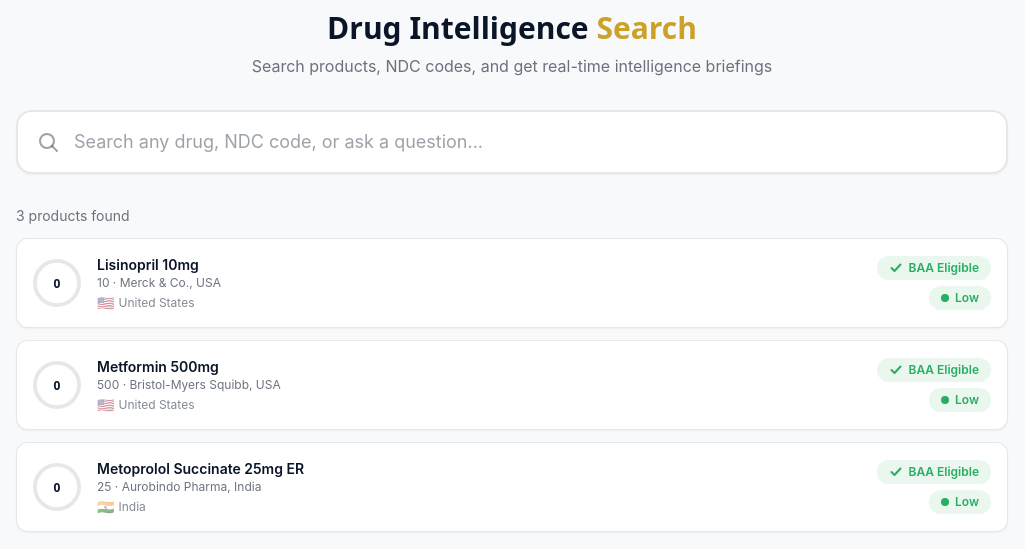
Test: SearchHub › search by NDC code returns matches
Type "65862" into the field with test id "search-input".
click(512, 142); type("65862")  # box [16,110,1008,174]
Wait 350 ms
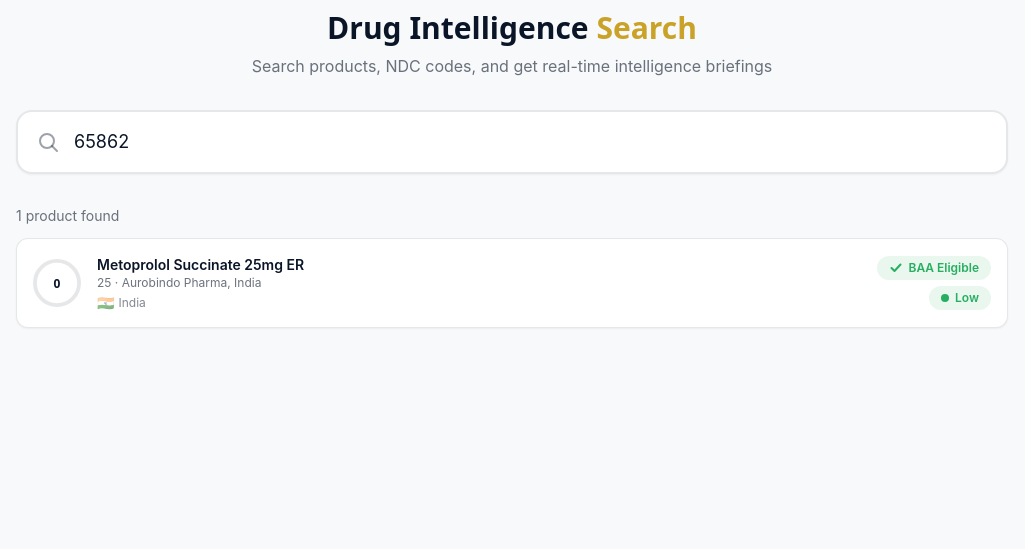
Expected: the heading "Metoprolol Succinate 25mg ER" is shown, [97,256,304,273]
Now the button "Lisinopril 10mg" is gone
